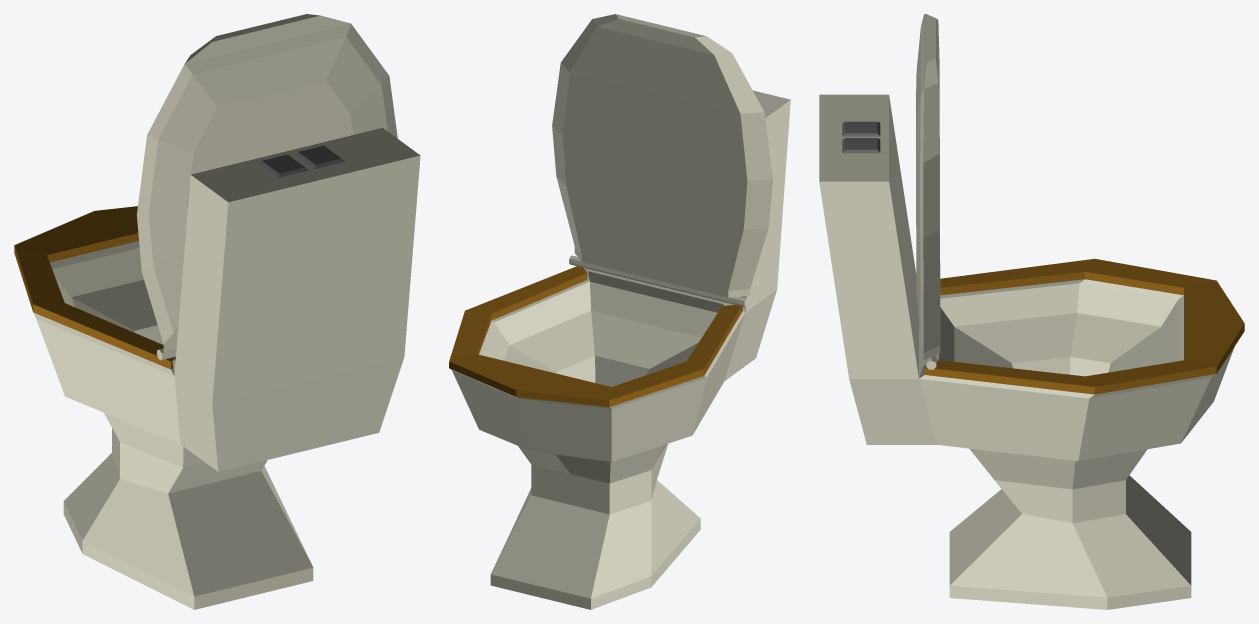
The model's file is Toilet 2.fbx.
The picture shows the model from 3 angles, left to right: view 1: azimuth 30°, elevation 25°; view 2: azimuth 150°, elevation 25°; view 3: azimuth 270°, elevation 25°; orthographic projection. The views are drawn at different scales.
Parts seen in each view (by area): view 1: Node 0, Node 1; view 2: Node 0, Node 1; view 3: Node 0, Node 1.
Part boxes in pixels (bbox=[...]): Node 0: bbox=[14, 128, 420, 609]; Node 1: bbox=[136, 14, 397, 360]; Node 0: bbox=[449, 90, 790, 609]; Node 1: bbox=[552, 14, 772, 307]; Node 0: bbox=[819, 94, 1244, 609]; Node 1: bbox=[916, 14, 940, 369].
Size of the model in its own units: 1.04 by 1.43 by 0.7408.
